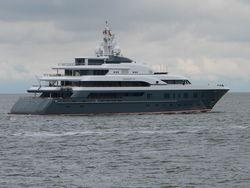yacht: (8, 20, 237, 114)
